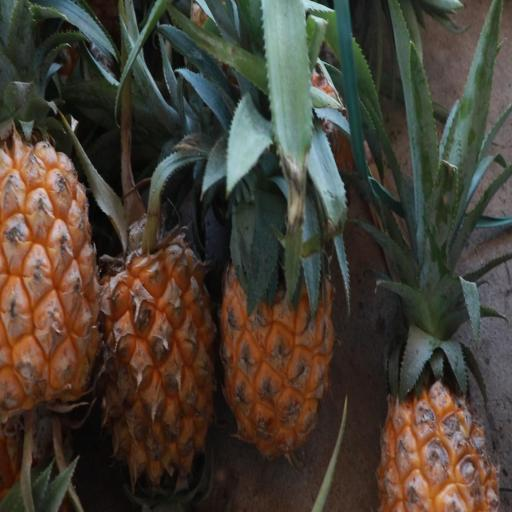Pineapple - v8 v1: (374, 139, 504, 512), (216, 141, 342, 465), (93, 192, 222, 499), (0, 122, 107, 442)
